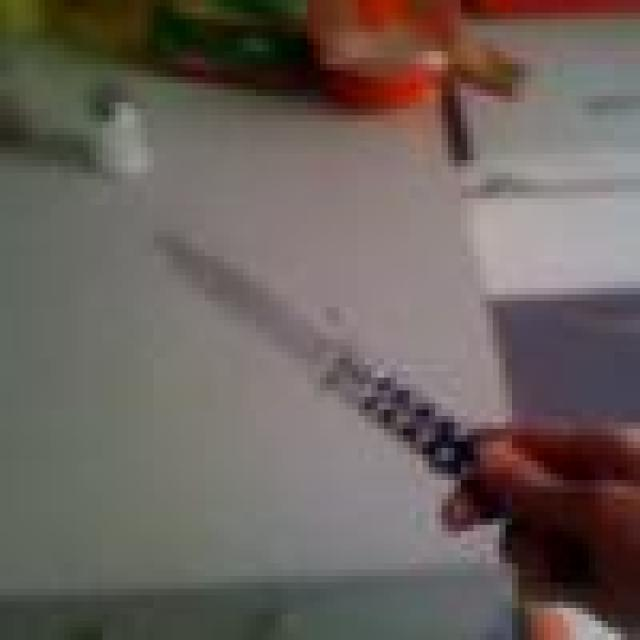Knife: (154, 218, 499, 499)
